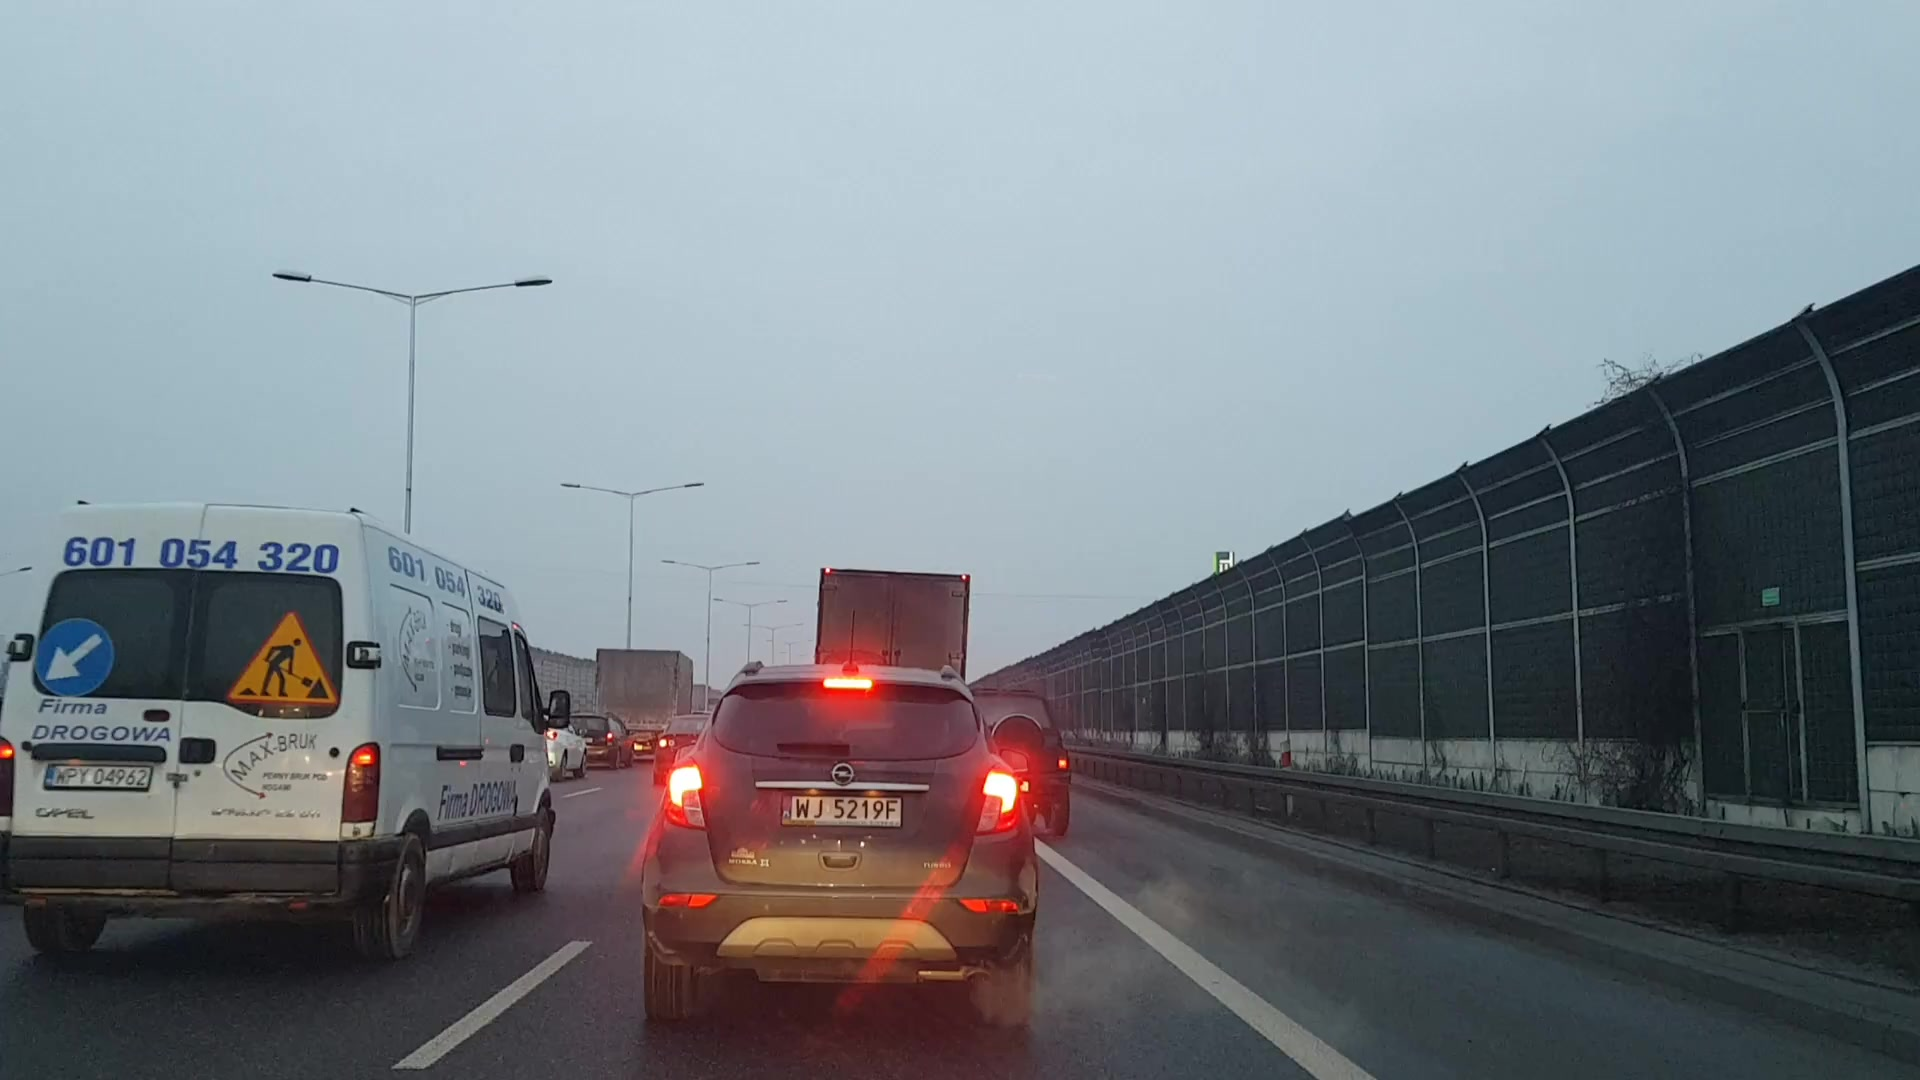car: (1, 505, 556, 940), (633, 661, 1047, 1033)
